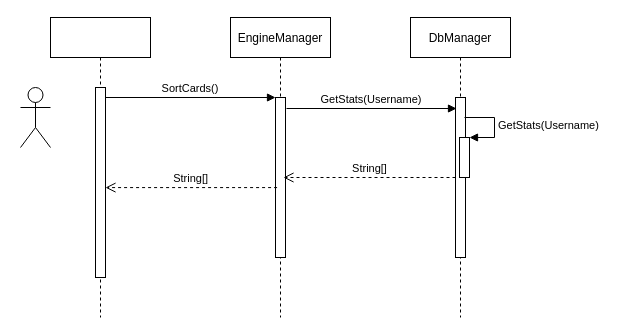
This 617x335 diagram has some shape labels left out. Here are the shapes that lost their labels. From the top down, the box of each, then its label:
(20, 86, 50, 148): Bruger
(50, 16, 150, 318): UC7
